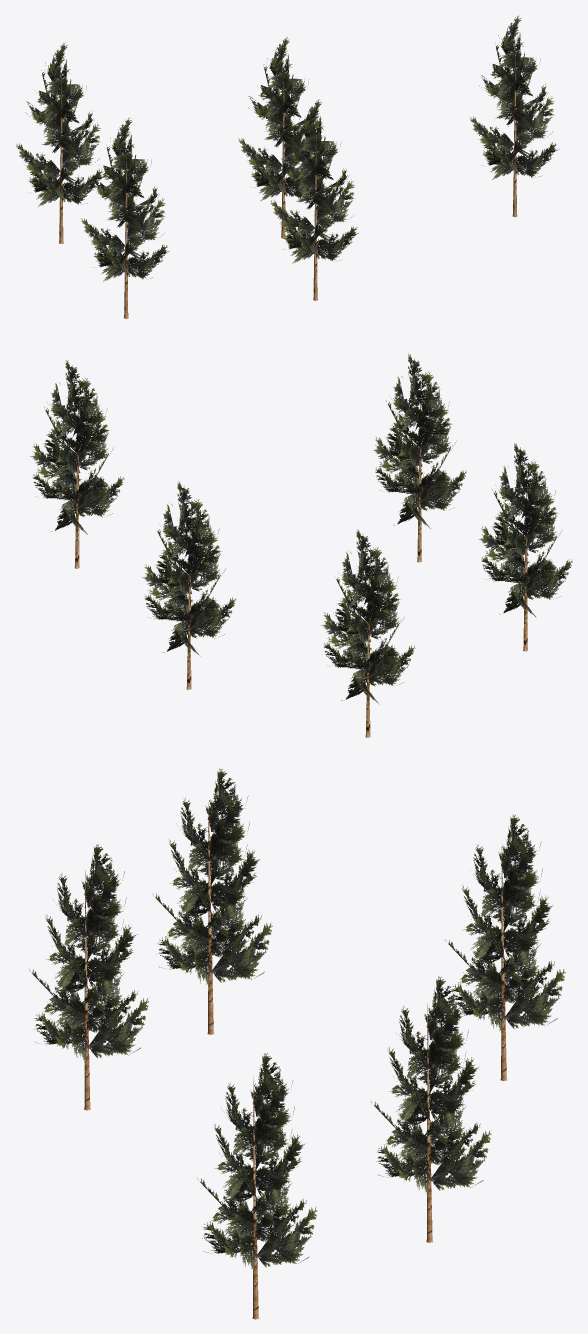
Rendered from tree1__1_.fbx.
3 renders of one model, top to bottom at view 1: azimuth 30°, elevation 25°; view 2: azimuth 150°, elevation 25°; view 3: azimuth 270°, elevation 25°, orthographic. The views are drawn at different scales.
Visible parts, largest first — view 1: tree1__1_; view 2: tree1__1_; view 3: tree1__1_.
Part boxes in pixels (<box>): tree1__1_: <box>16,15,558,318</box>; tree1__1_: <box>30,353,572,737</box>; tree1__1_: <box>29,768,565,1319</box>.
Bounding box in the file's own units: 5139 × 2456 × 3637.
Materials: 2 (2 with a texture image).
